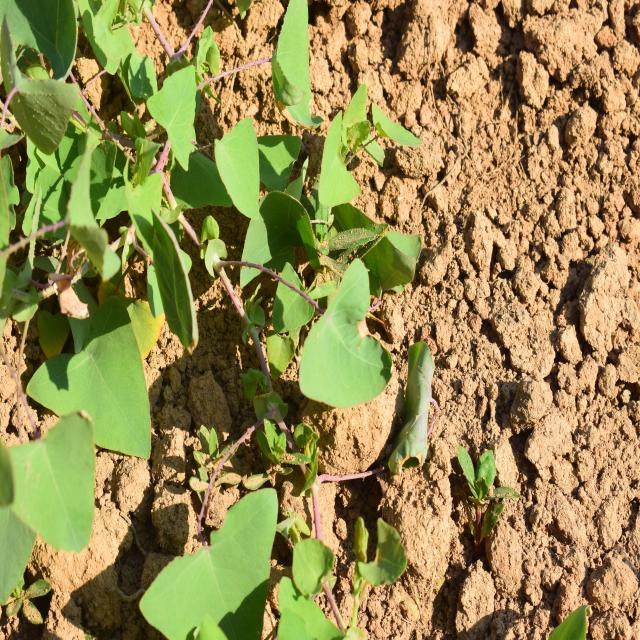Asiatic_Smartweed: (0, 259, 167, 556), (158, 15, 369, 248), (114, 493, 304, 638), (295, 250, 395, 417)
